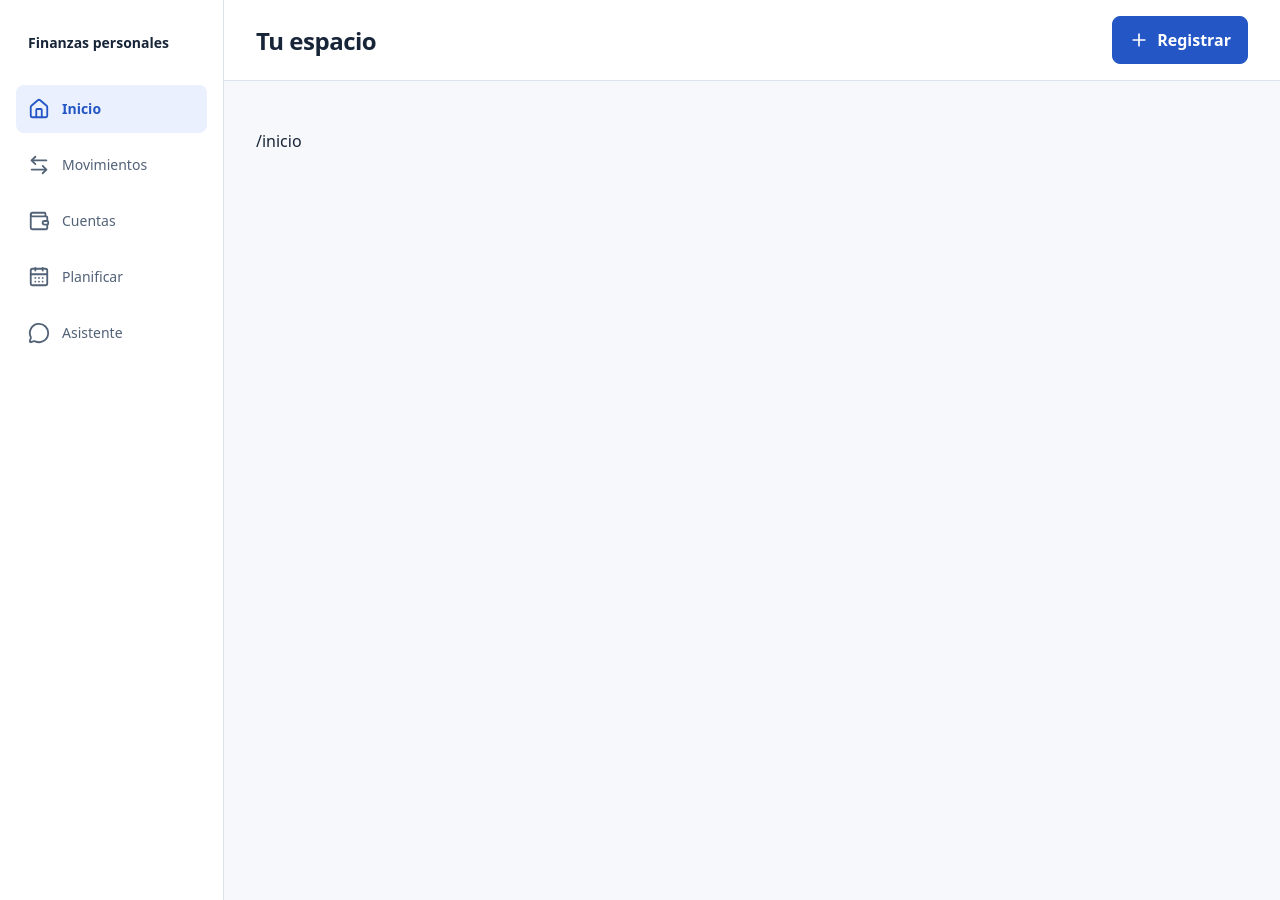
Test: keeps five visible destinations, updates current page, and opens registration from the shell
The width and height of the screenshot is (1280, 900).
Expected: the link "Inicio" is shown, left=16, top=85, right=207, bottom=133
Expected: the link "Movimientos" is shown, left=28, top=154, right=147, bottom=176
Click the link "Cuentas": [72, 221] box left=28, top=210, right=116, bottom=232
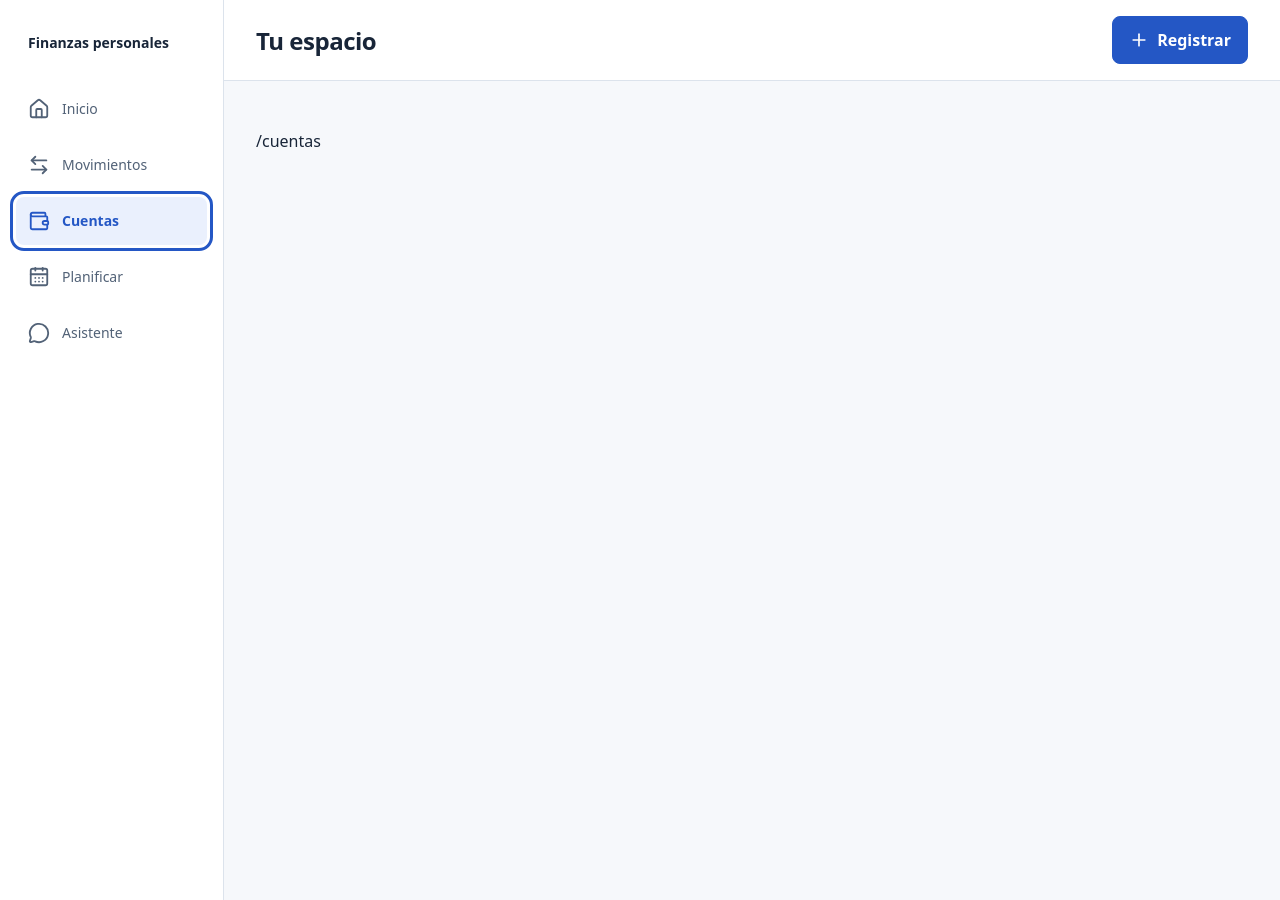
Now the text "/cuentas" is shown, box left=256, top=130, right=321, bottom=152
Click the button "Registrar": [1180, 40] box left=1112, top=16, right=1248, bottom=64
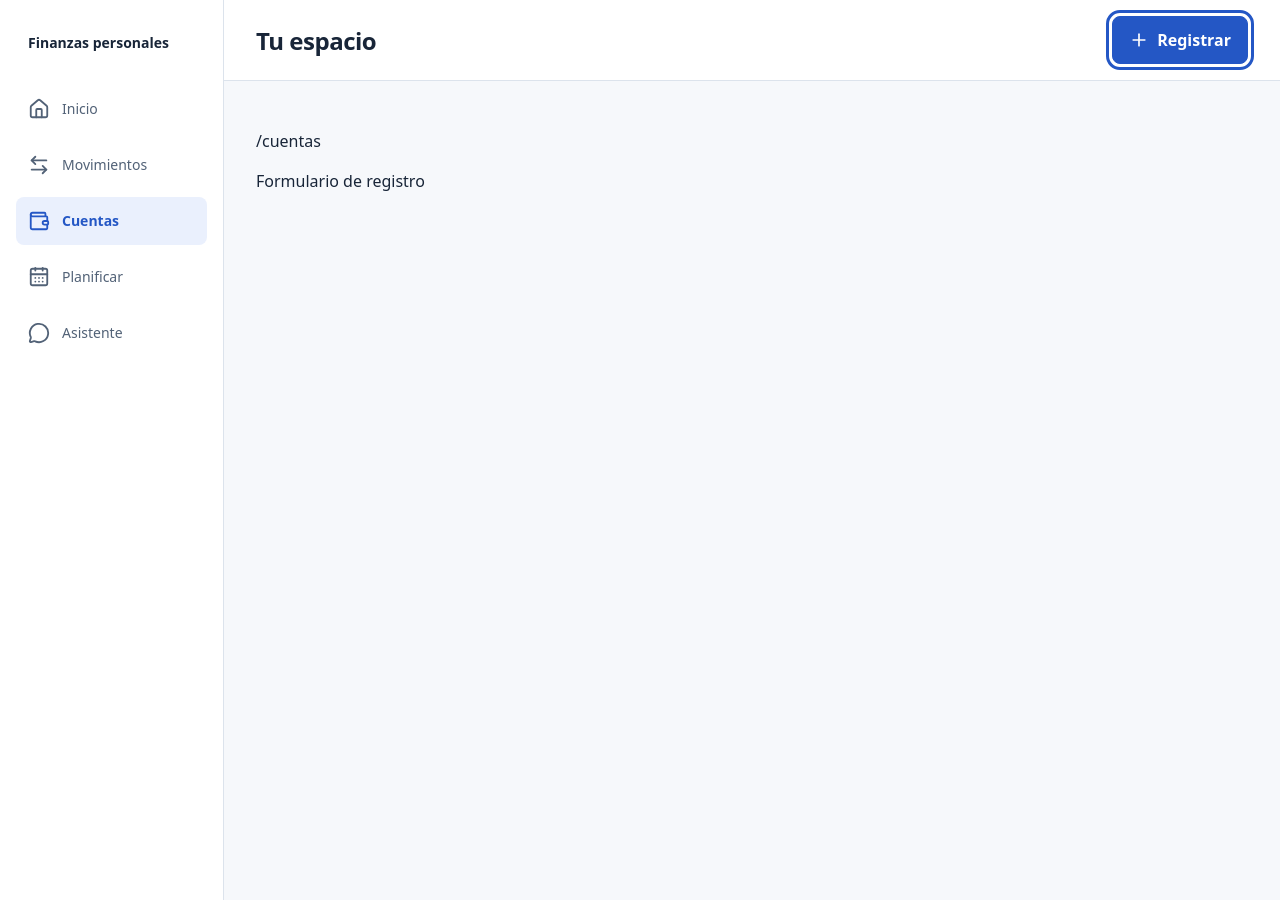
Now the text "Formulario de registro" is shown, box left=256, top=170, right=425, bottom=192
